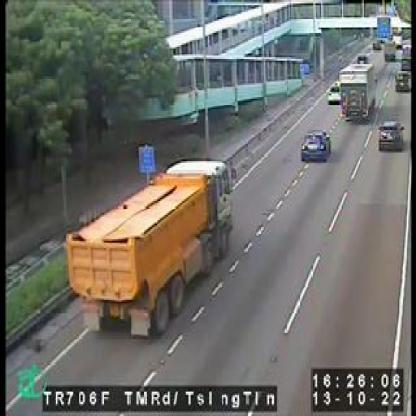Car: (300, 128, 332, 162), (380, 119, 402, 152), (395, 69, 411, 93), (327, 82, 340, 102)
Truck: (69, 158, 234, 340), (339, 64, 375, 125), (383, 38, 397, 62)
